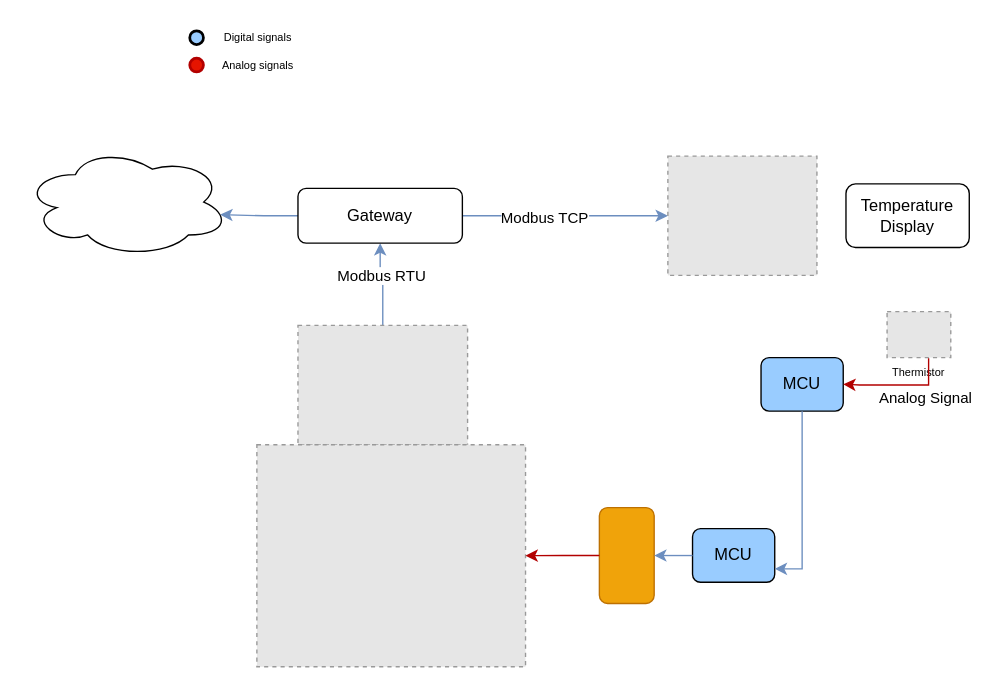
Image size: 996x690. Some labels were removed from this diagram. Grey dashed boxes stand in for pictures. The centre of each missing label's shape, as x and y in pixels:
Internet/ Web page: [126,201]
Thermistor simulator: [626,554]
